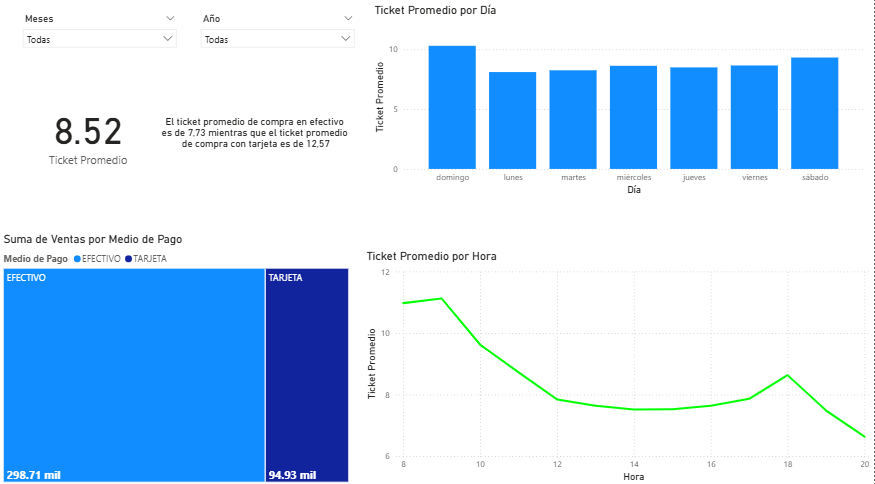

What the dashboard file says about the page in this screenshot:
{"tool":"powerbi","page":{"name":"Ticket_Promedio","canvas":[1280,720],"ordinal":3},"visuals":[{"type":"treemap","fields":{"Group":["MEDIO PAGO.Medio de Pago"],"Values":["MEDIDAS.Suma de Ventas"]},"box":[0,348.5,515,371.5],"z":0},{"type":"lineChart","title":"Ticket Promedio por Hora","fields":{"Category":["VENTAS.Hora1"],"Y":["MEDIDAS.Ticket Promedio"]},"box":[530.7,373.9,748.9,346.1],"z":1000},{"type":"card","fields":{"Values":["MEDIDAS.Ticket Promedio"]},"box":[0,106.2,258.2,193.6],"z":2000},{"type":"columnChart","title":"Ticket Promedio por Día","fields":{"Y":["MEDIDAS.Ticket Promedio"],"Category":["TIEMPO.Nombre del día"]},"box":[542.7,13.3,726,285.8],"z":3000},{"type":"slicer","fields":{"Values":["TIEMPO.Año"]},"box":[283.7,22.9,244.7,73.9],"z":4000},{"type":"slicer","fields":{"Values":["TIEMPO.Nombre del mes"]},"box":[22.9,22.9,244.7,72.6],"z":5000},{"type":"card","fields":{"Values":["MEDIDAS.Texto Dinamico"]},"box":[216.5,106.2,311.9,193.6],"z":6000}]}

Visuals, with their boxes in screenshot pixels (x1, y1, x2, y2), scaled from the page's 1280x720 canvas onto the 875x484 screenshot:
treemap - MEDIO PAGO.Medio de Pago x MEDIDAS.Suma de Ventas: box(0, 234, 352, 483)
"Ticket Promedio por Hora" lineChart: box(363, 251, 874, 483)
card - MEDIDAS.Ticket Promedio: box(0, 71, 177, 202)
"Ticket Promedio por Día" columnChart: box(371, 9, 867, 201)
slicer - TIEMPO.Año: box(194, 15, 361, 65)
slicer - TIEMPO.Nombre del mes: box(16, 15, 183, 64)
card - MEDIDAS.Texto Dinamico: box(148, 71, 361, 202)
